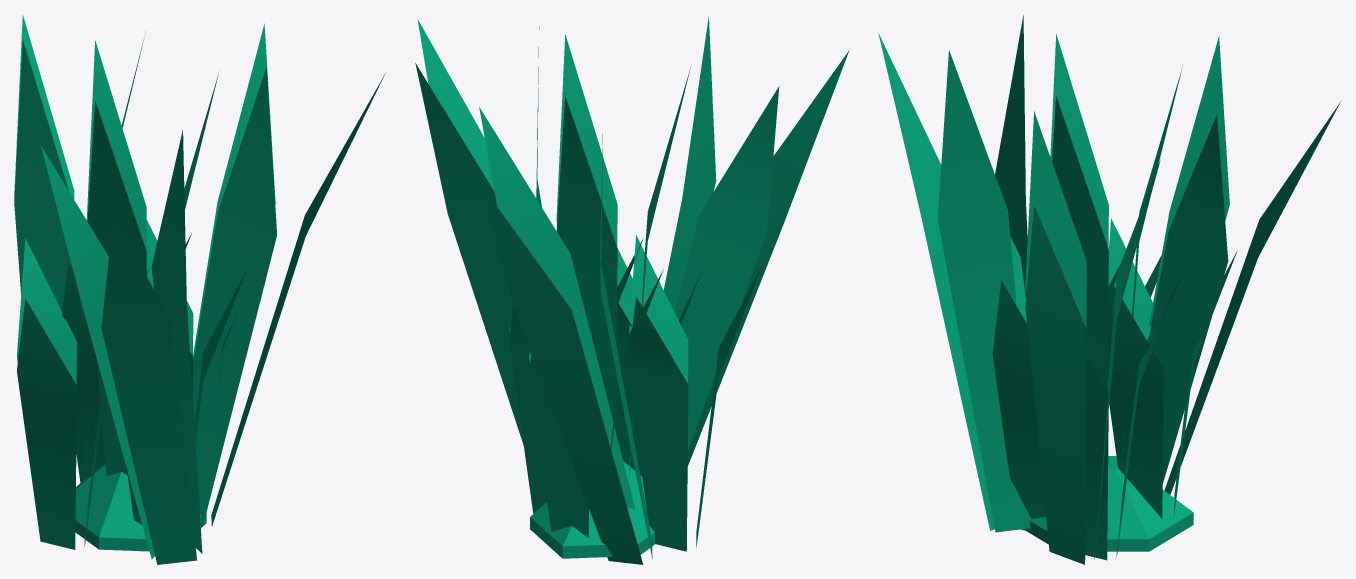
Rendered from GrassPlant.fbx.
3 views of the same model, side by side, from view 1: azimuth 30°, elevation 25°; view 2: azimuth 150°, elevation 25°; view 3: azimuth 270°, elevation 25° (orthographic). The views are drawn at different scales.
Parts seen in each view (by area): view 1: plant_small (×8), leafs_pineA; view 2: plant_small (×8), leafs_pineA; view 3: plant_small (×7), leafs_pineA.
Boxes of the visible parts, x1=… form: plant_small (×8): x1=14, y1=14, x2=385, y2=564; leafs_pineA: x1=75, y1=464, x2=206, y2=551; plant_small (×8): x1=415, y1=16, x2=849, y2=564; leafs_pineA: x1=530, y1=461, x2=655, y2=558; plant_small (×7): x1=878, y1=15, x2=1340, y2=564; leafs_pineA: x1=1026, y1=456, x2=1193, y2=551.
Size of the model in its own units: 15.09 by 18.92 by 16.89.
